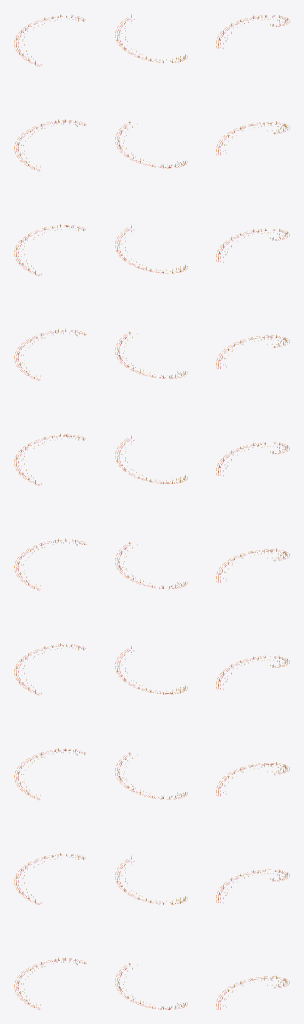
The model's file is Circle7Glow.obj.
The picture shows the model from 3 angles, left to right: view 1: azimuth 30°, elevation 25°; view 2: azimuth 150°, elevation 25°; view 3: azimuth 330°, elevation 25°; orthographic projection.
Parts seen in each view (by area): view 1: Circle7Glow; view 2: Circle7Glow; view 3: Circle7Glow.
Boxes of the visible parts, x1,y1,x2,y2 form: Circle7Glow: (14,14,86,1009); Circle7Glow: (115,14,187,1009); Circle7Glow: (216,15,289,1009).
Bounding box in the file's own units: 28.2 × 419 × 23.53.
Materials: 1 (1 with a texture image).
